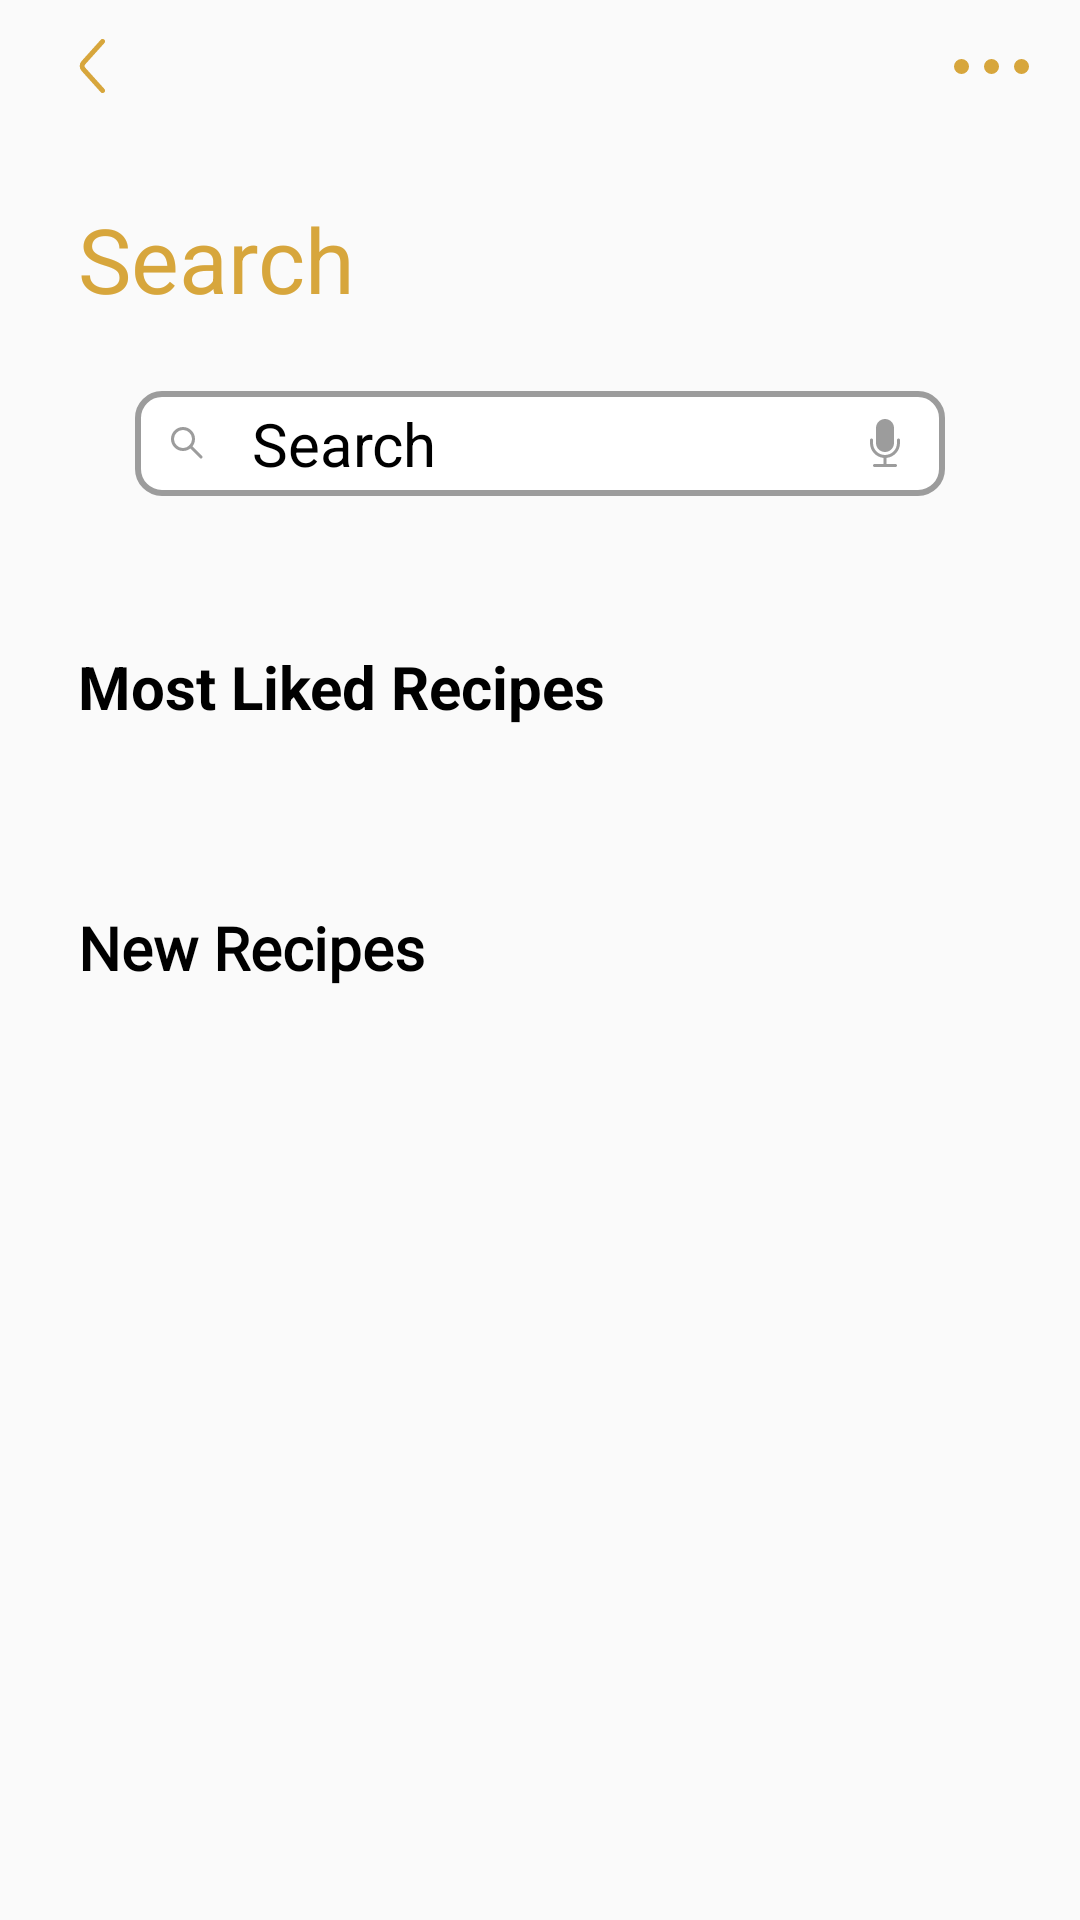

Where icons sit on this 1080px×1920px app screen, as (x1, y1, x2, y2):
back: (79, 39, 105, 93)
